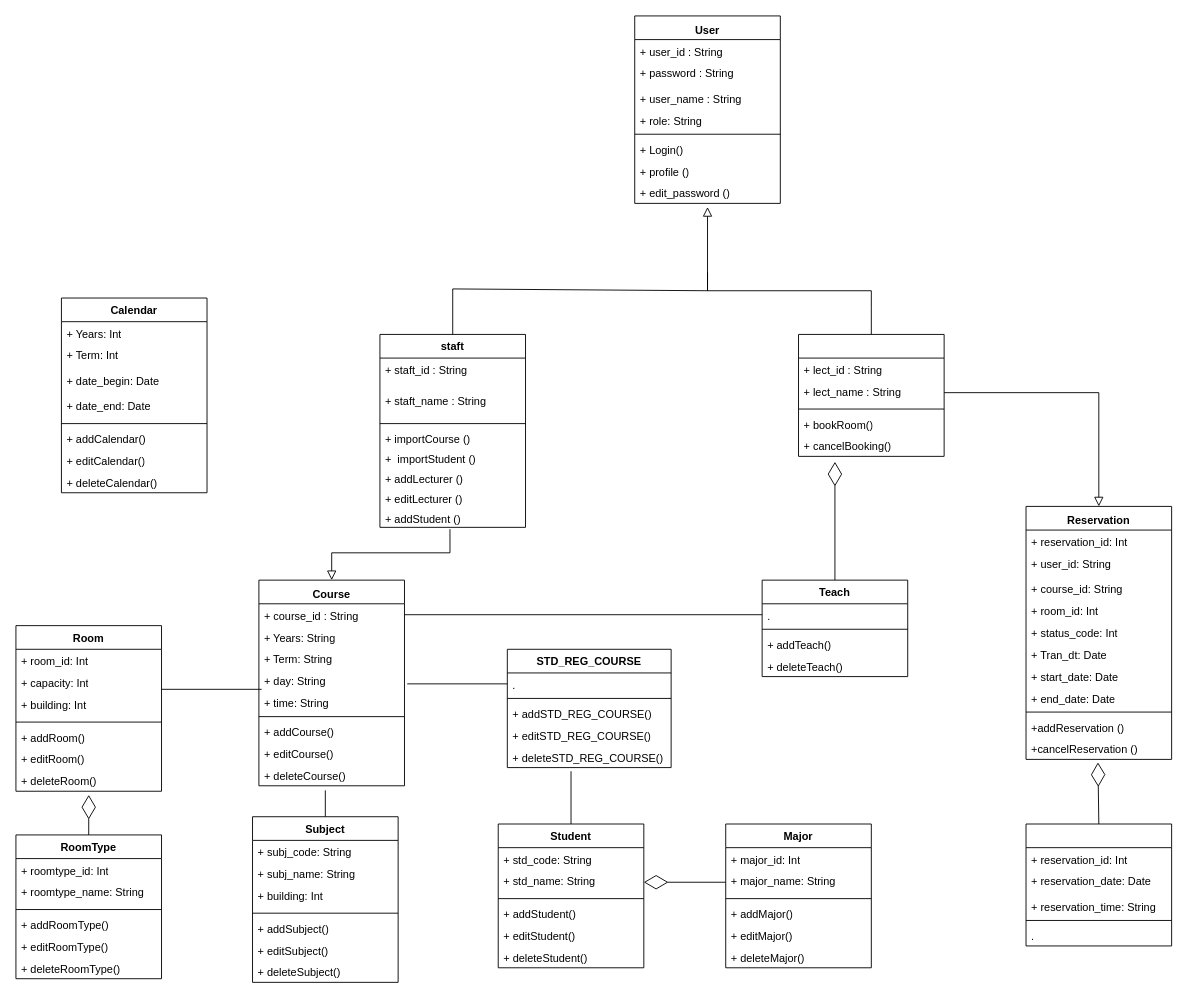
The diagram is 1188 pixels wide and 1001 high, and some of its shapes have lost their labels. Each missing label, with the box of its shape:
Lecturer: (798, 334, 944, 456)
Reservation_detail: (1025, 823, 1172, 946)
